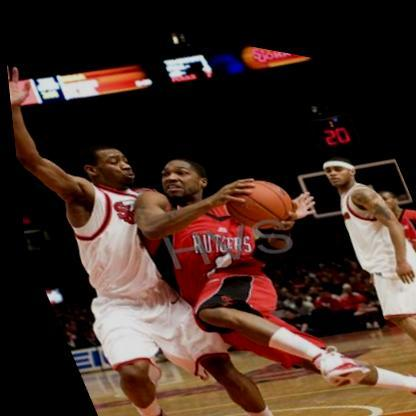basketball: (209, 154, 302, 240)
